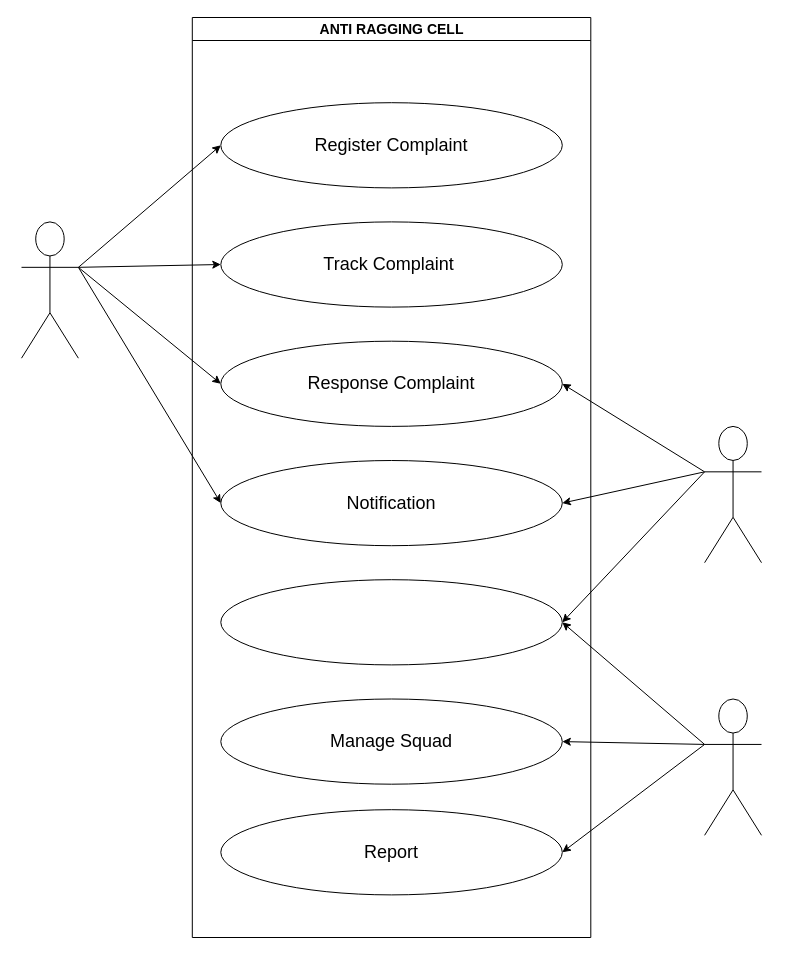
Some shapes in this 785 by 955 pixel diagram are drawn without their labels. The shapes that lost their labels are listed below. From the top down, each one's centre as x and y in pixels, then its label:
the point at 49,289: Victim
the point at 733,494: Squad
the point at 391,622: Login
the point at 733,766: Admin
